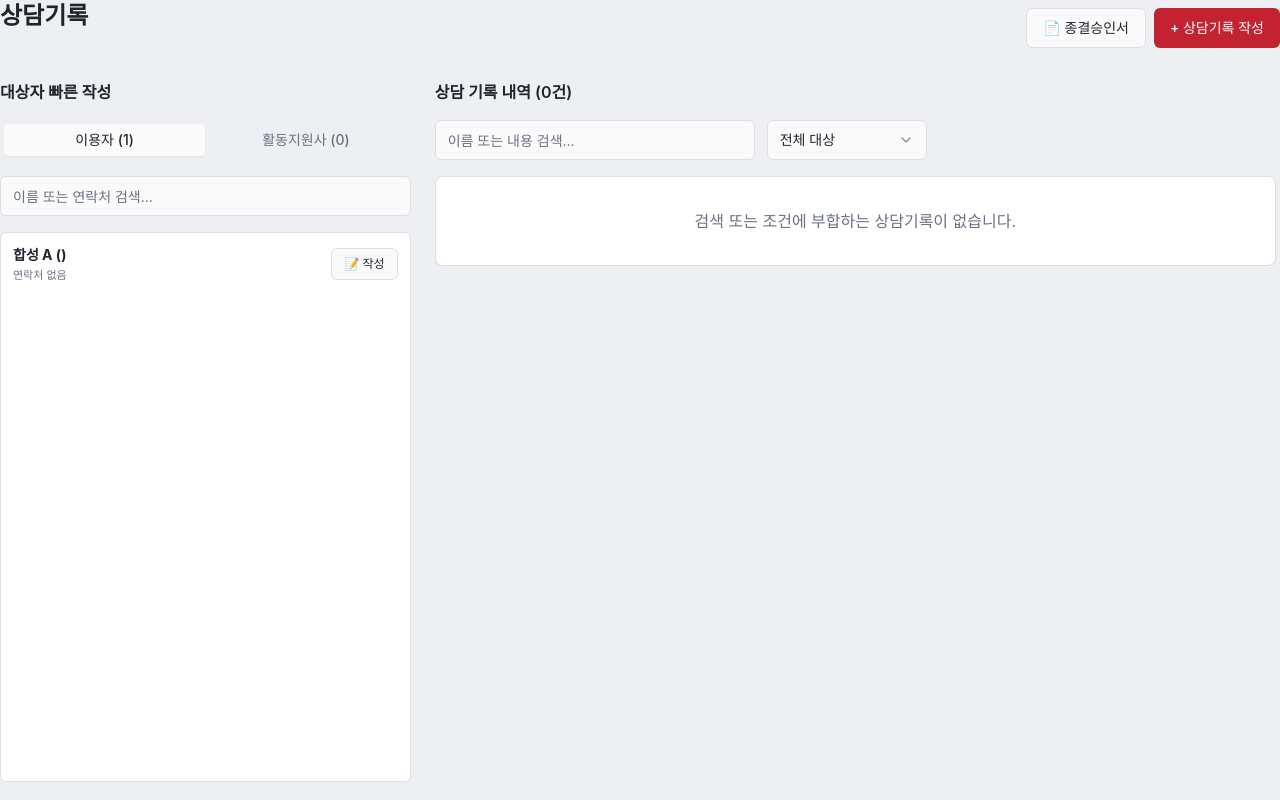
Scenario: AUTH-2: 실제 App/router/useAuth에서 admin 대상 선택 후 Entry 표시
Click the button "+ 상담기록 작성": (1217, 28) [1154,8,1279,48]
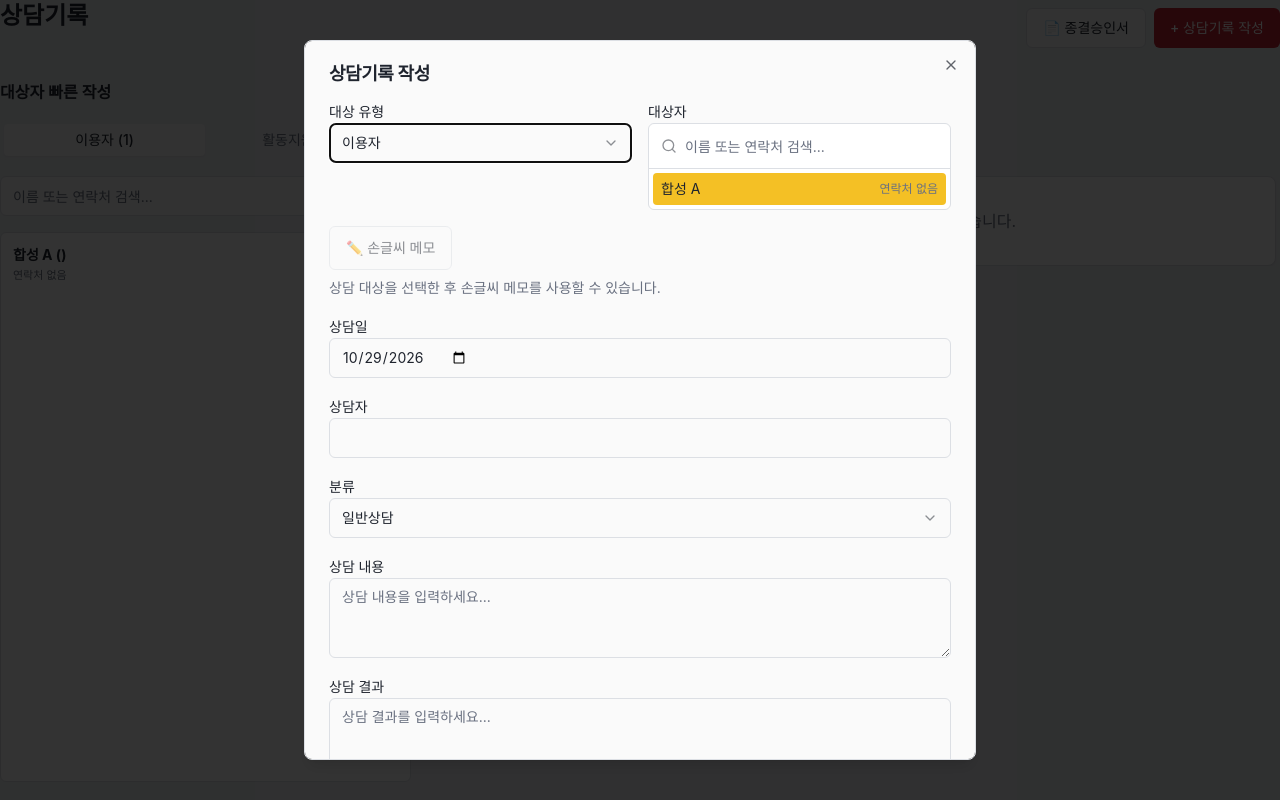
Click the option "합성 A 연락처 없음": (681, 188) [653,173,946,205]
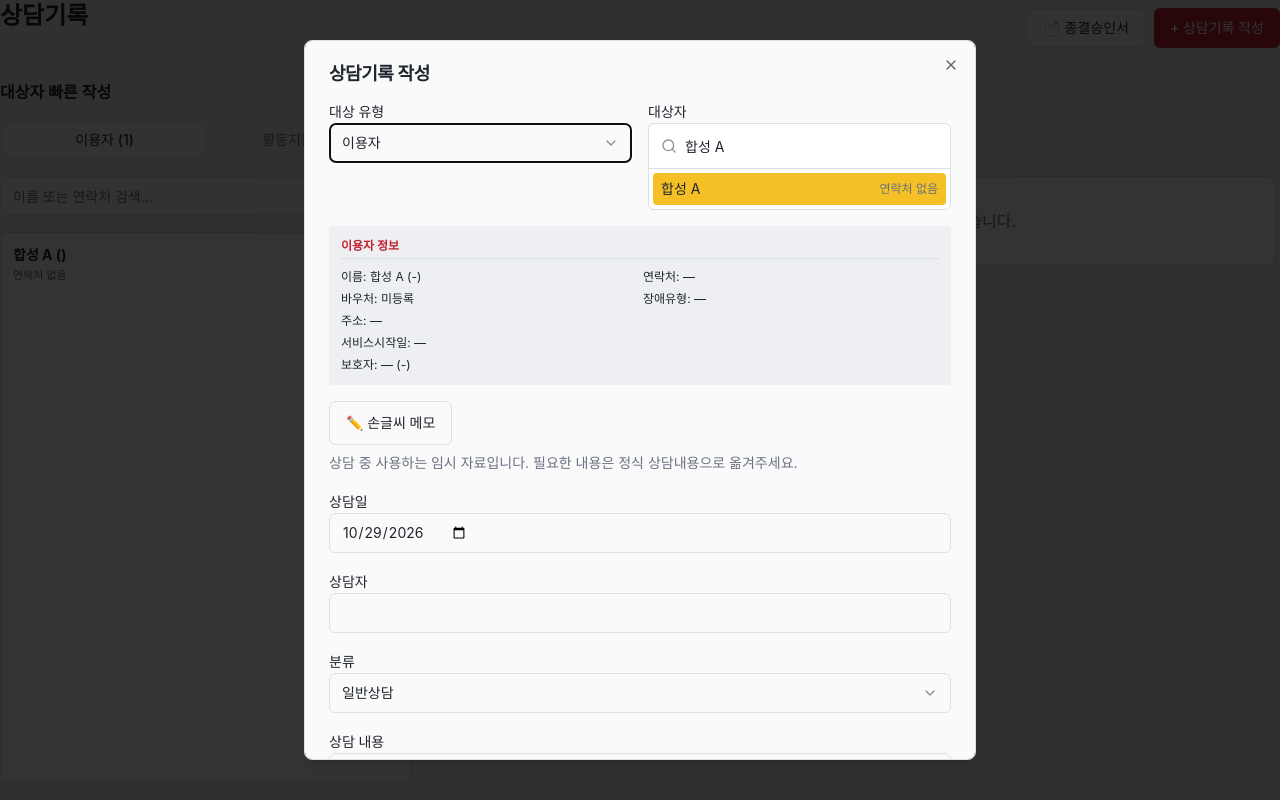
Check: the button "✏️ 손글씨 메모" is enabled, box [329,401,452,445]
